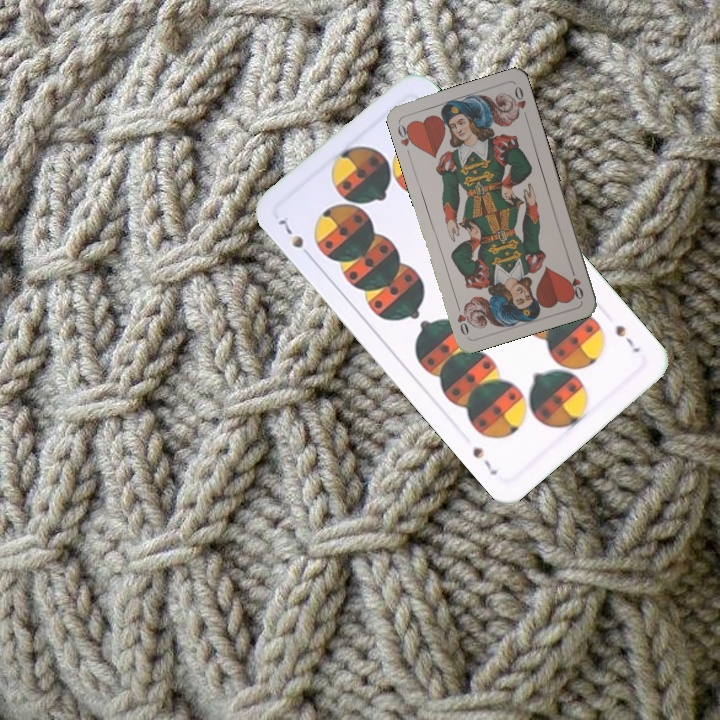HO: (566, 263, 586, 302), (393, 119, 418, 149)
S7: (273, 215, 316, 262), (611, 321, 643, 356)
